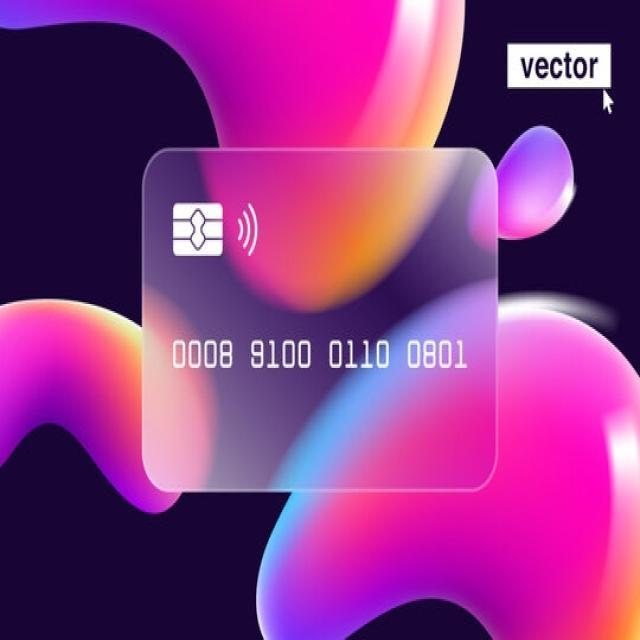payment_card: (139, 145, 500, 493)
